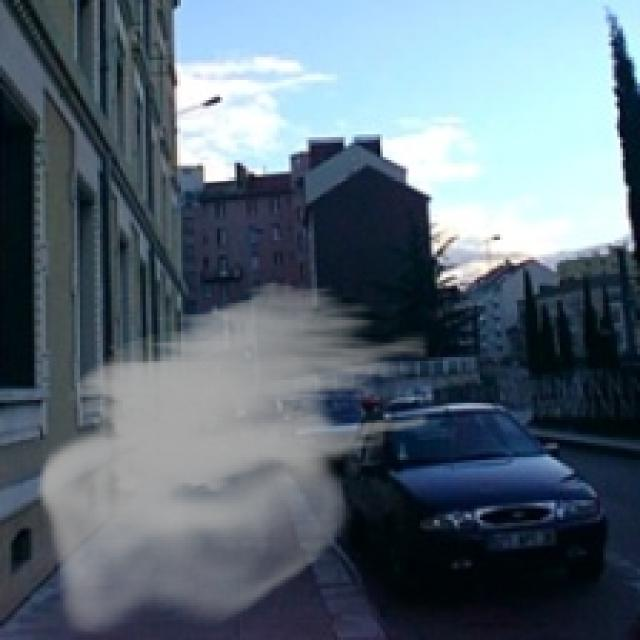smoke: (37, 277, 429, 634)
